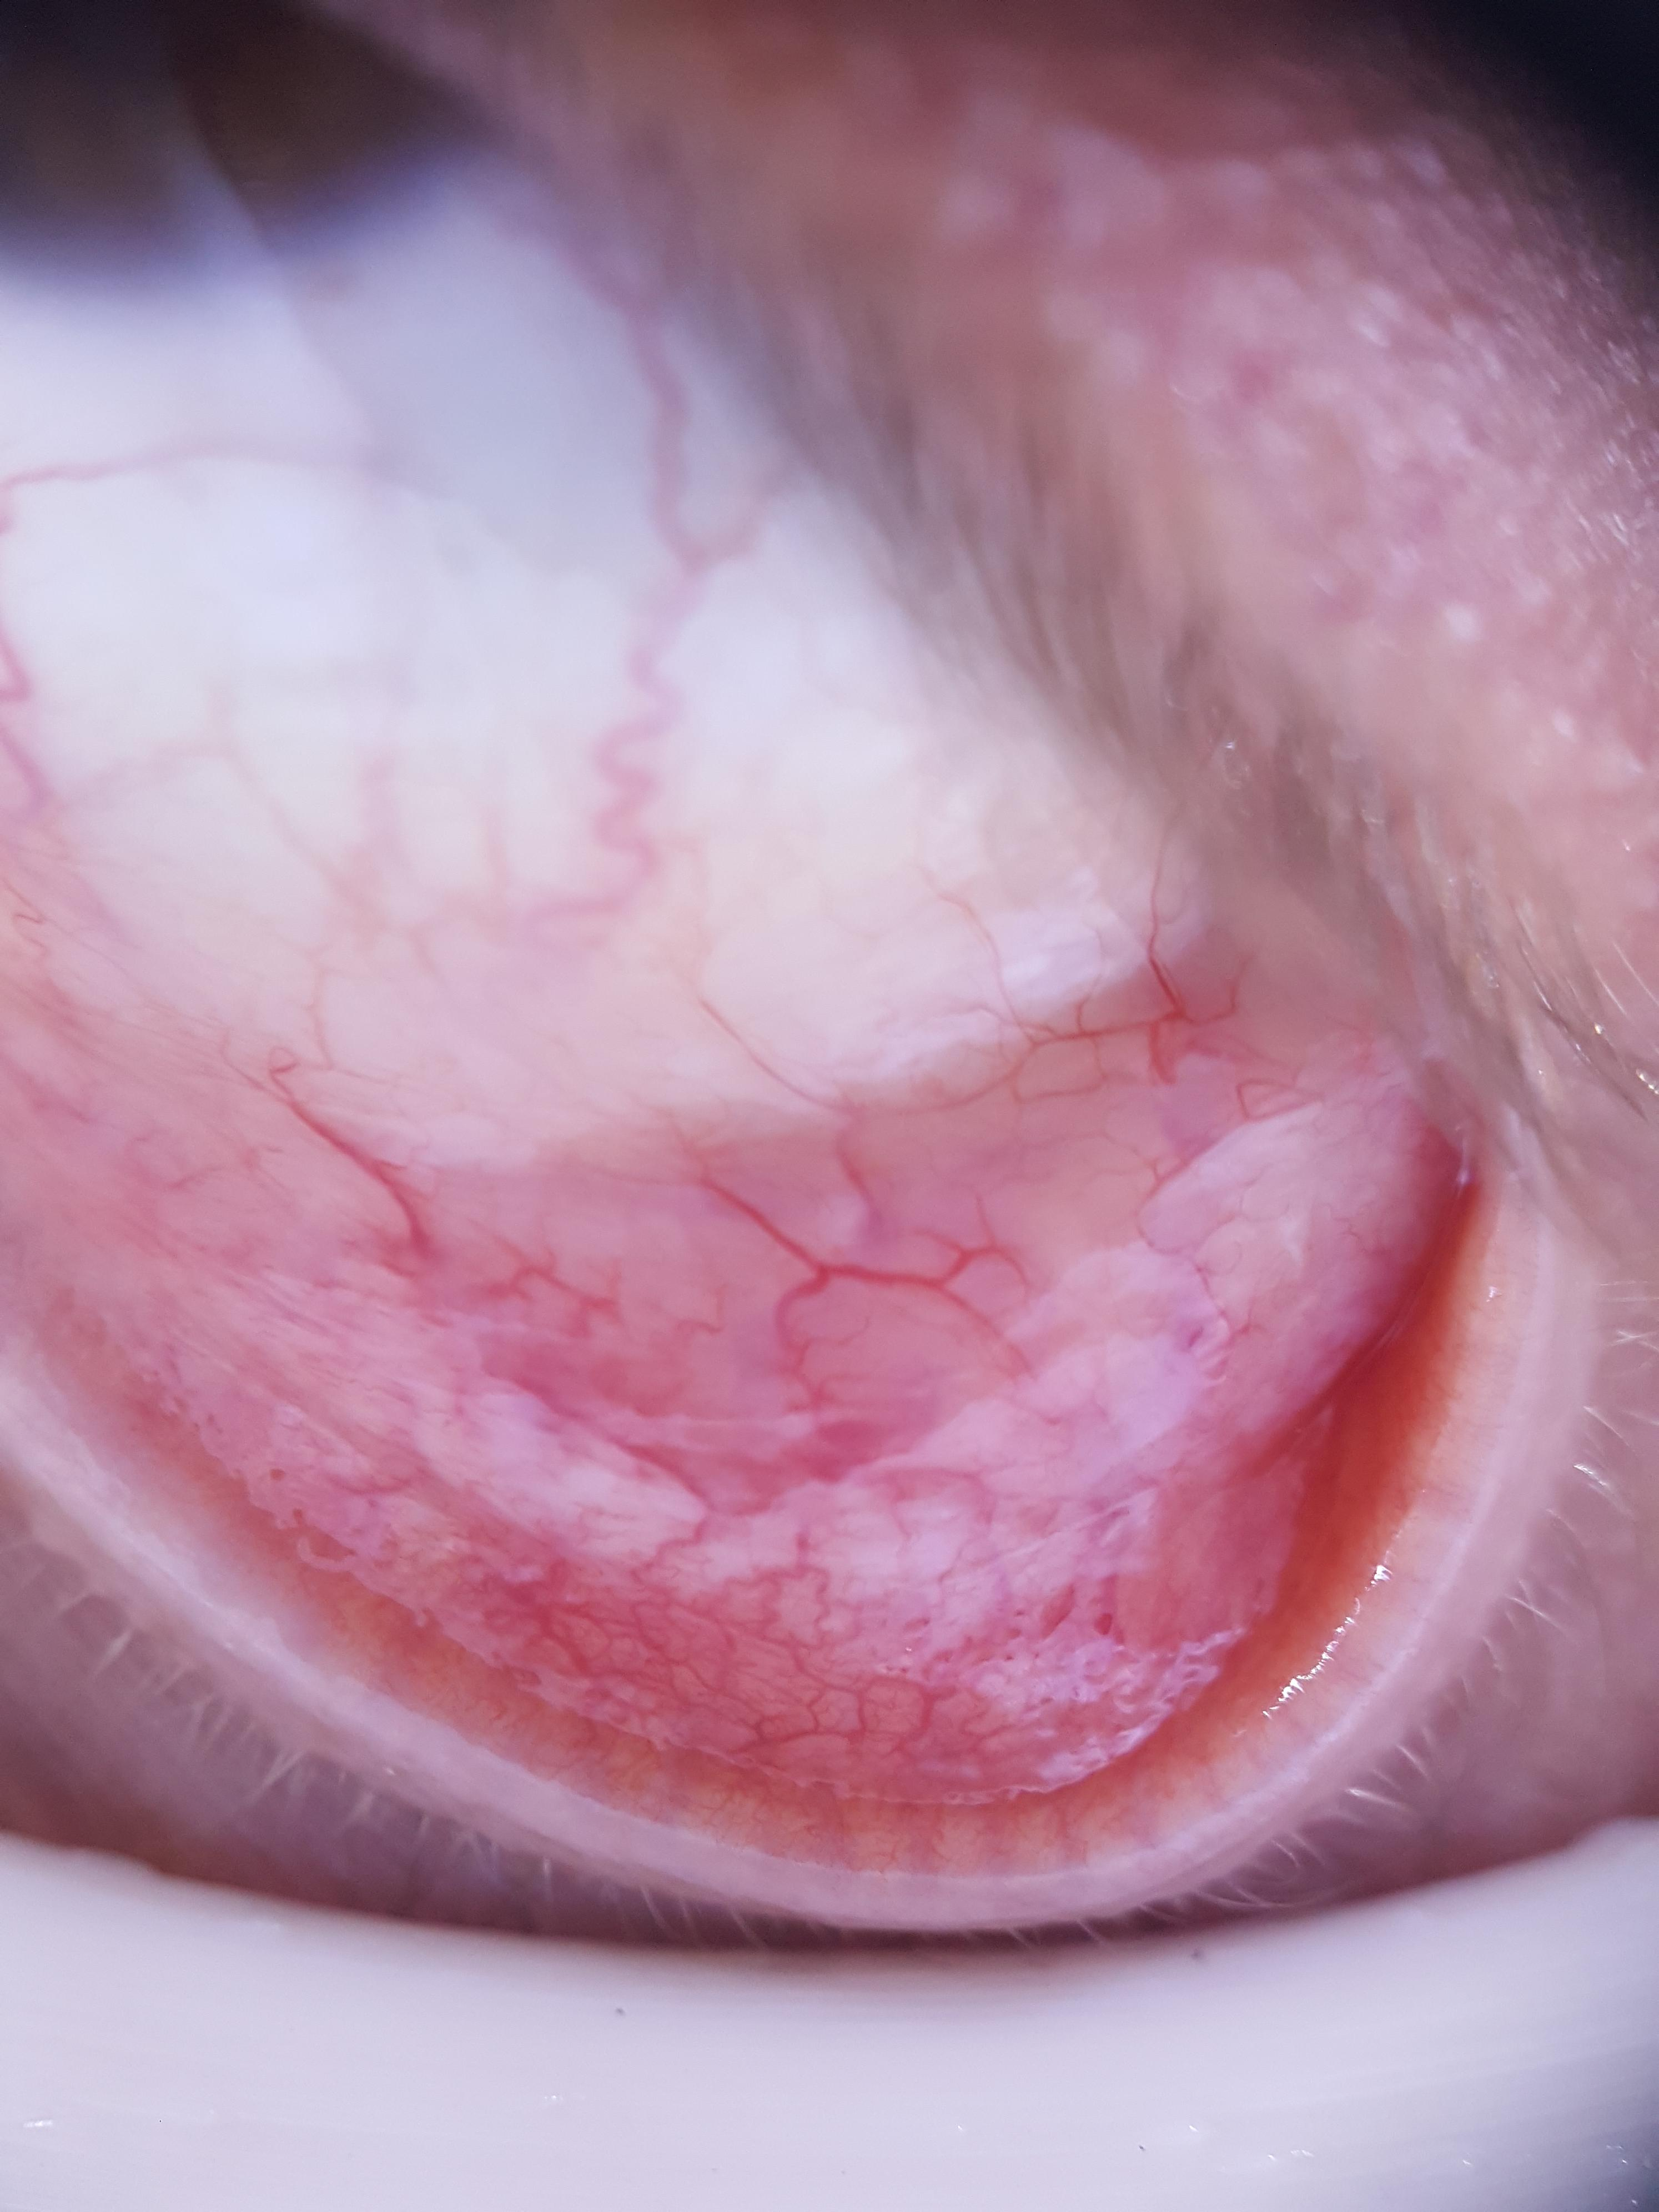forniceal: (0, 792, 1448, 1792)
forniceal_palpebral: (0, 782, 1473, 1858)
palpebral: (0, 1141, 1473, 1855)
